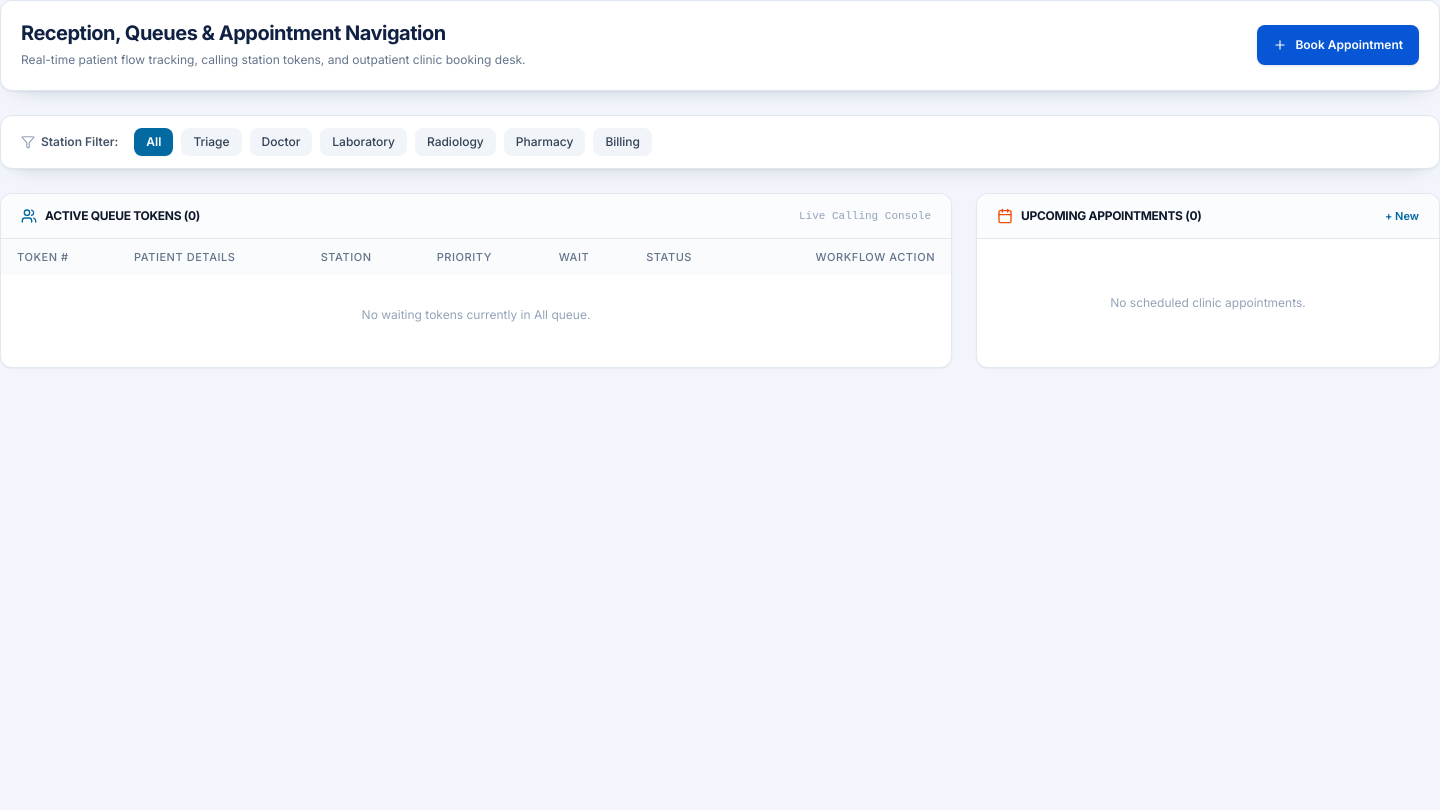
unified workflow regressions › requires an explicit patient and time and does not pre-populate clinical appointment text
Click the button "Book Appointment": (1338, 45) [1257,25,1419,65]
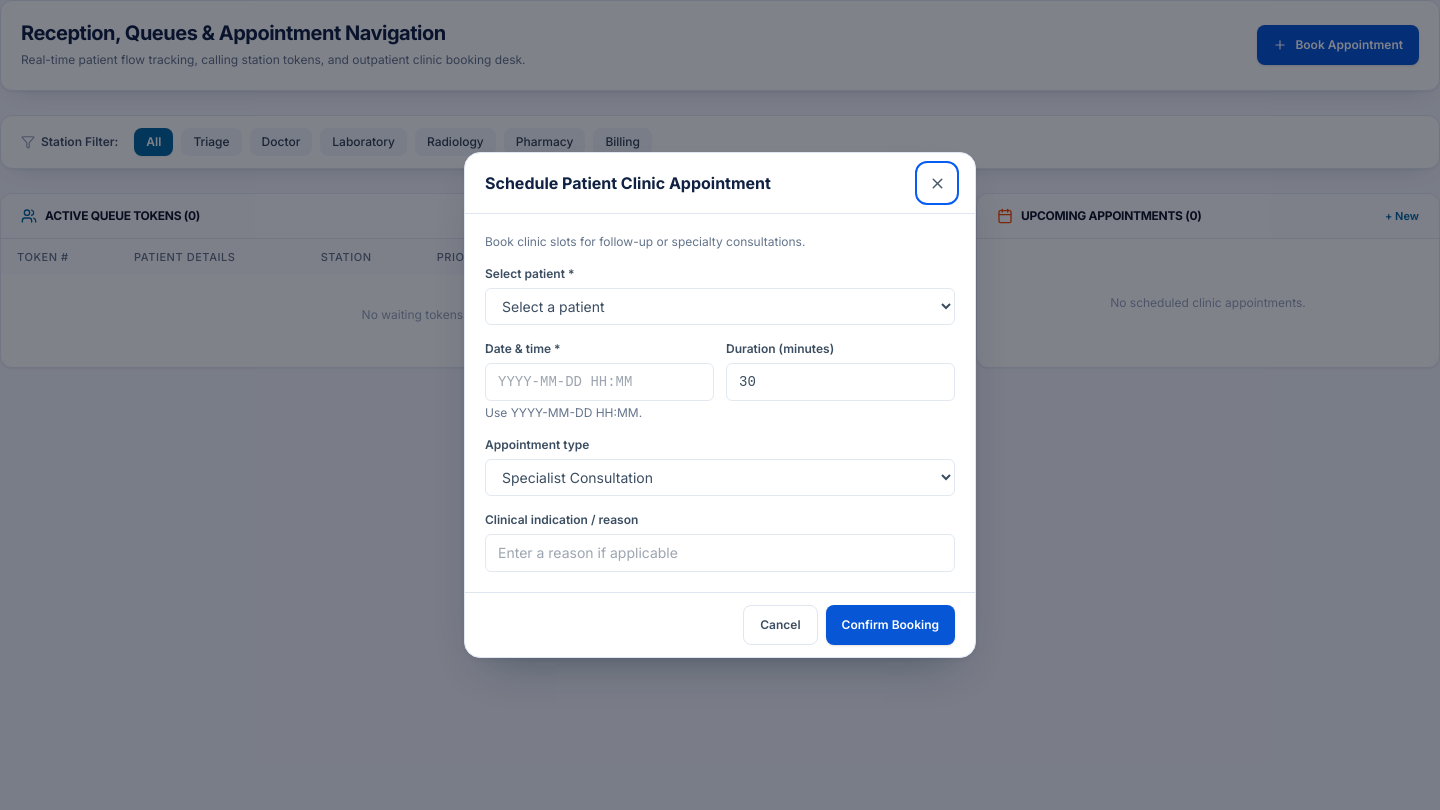
Expected: the dropdown labelled "Select patient *" shows "Select a patient", [485,288,955,325]
Expected: the field labelled "Date & time *" is empty, [485,363,714,401]
Expected: the field labelled "Clinical indication / reason" is empty, [485,534,955,572]
Click the button "Confirm Booking": (890, 625) [826,605,955,645]
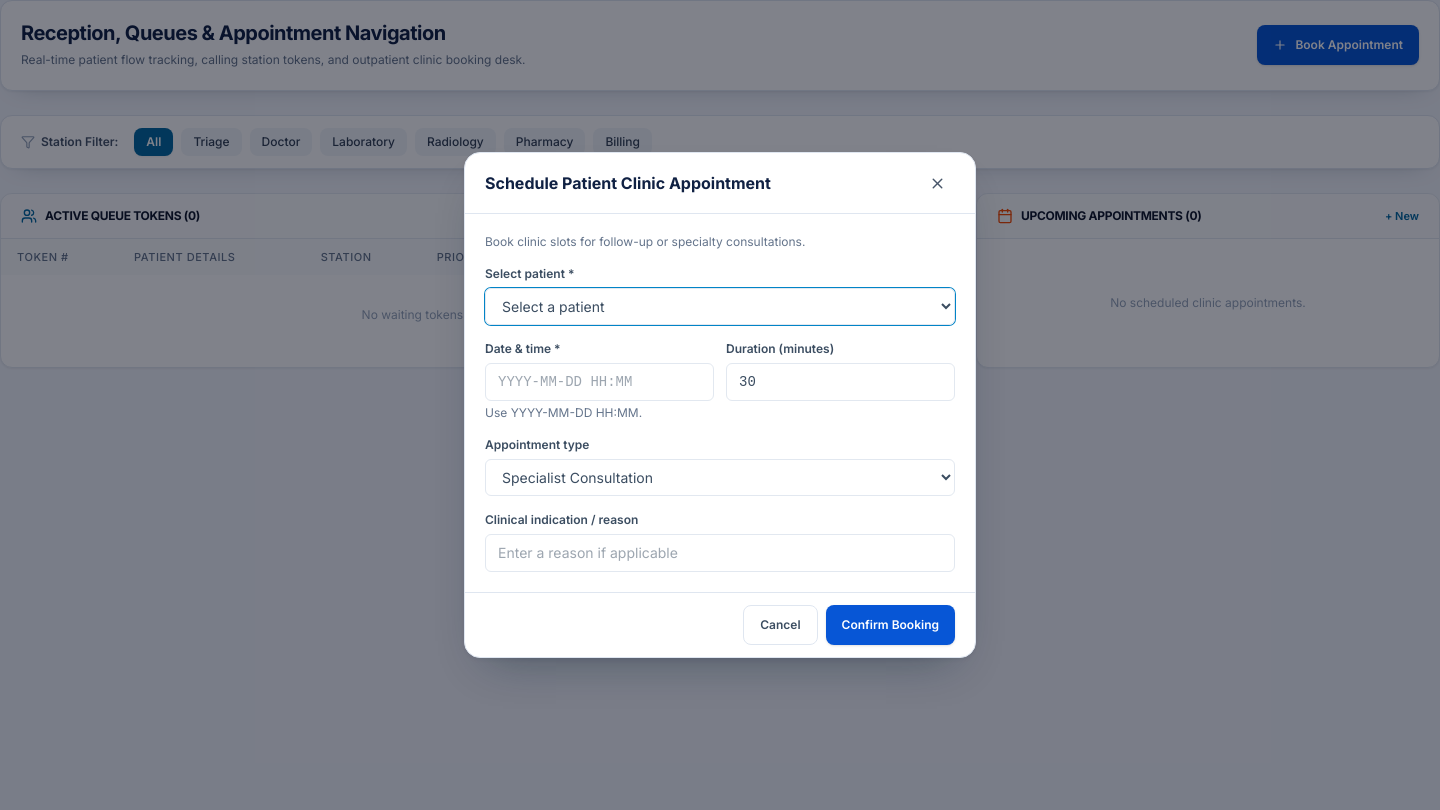
Press Escape
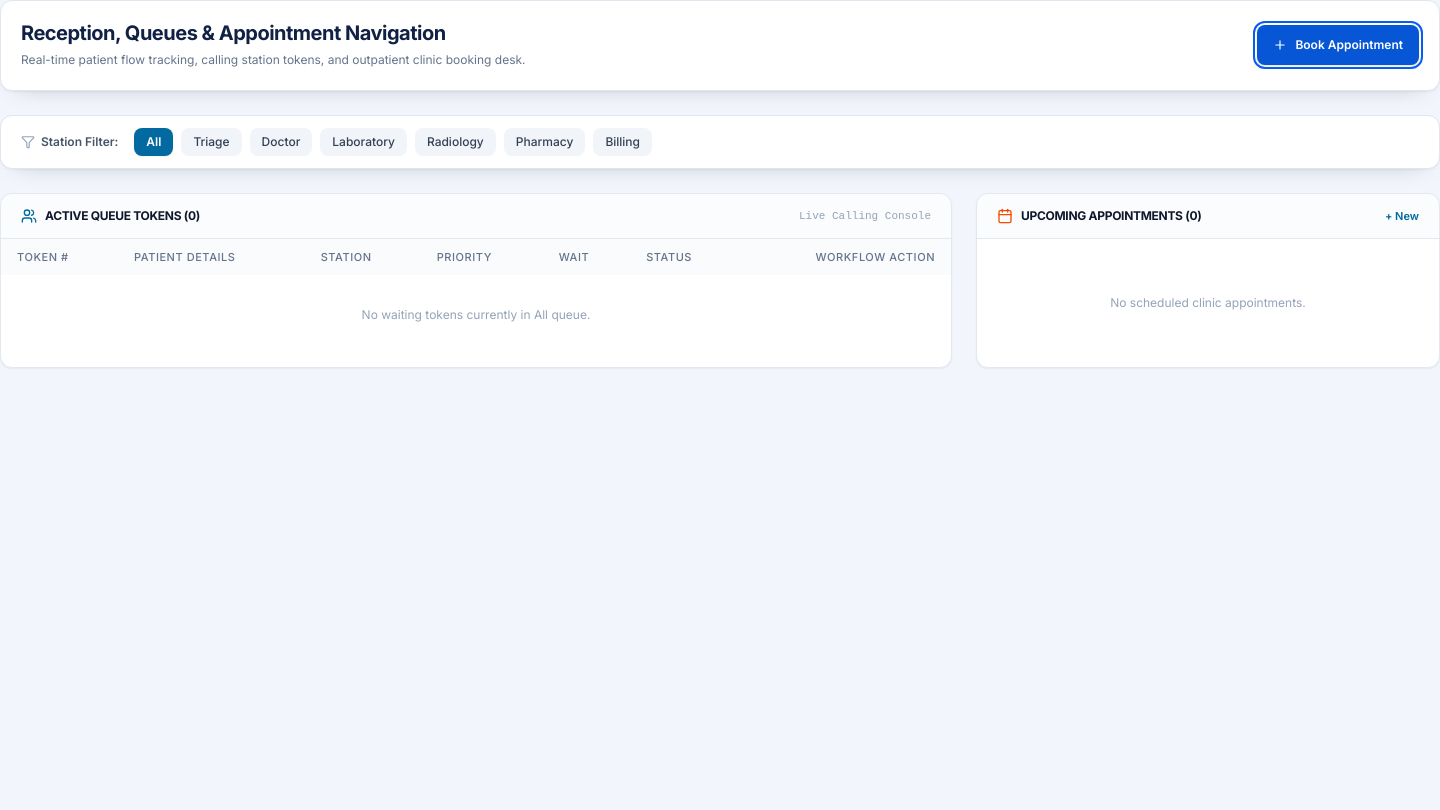
Expected: the dialog is gone
